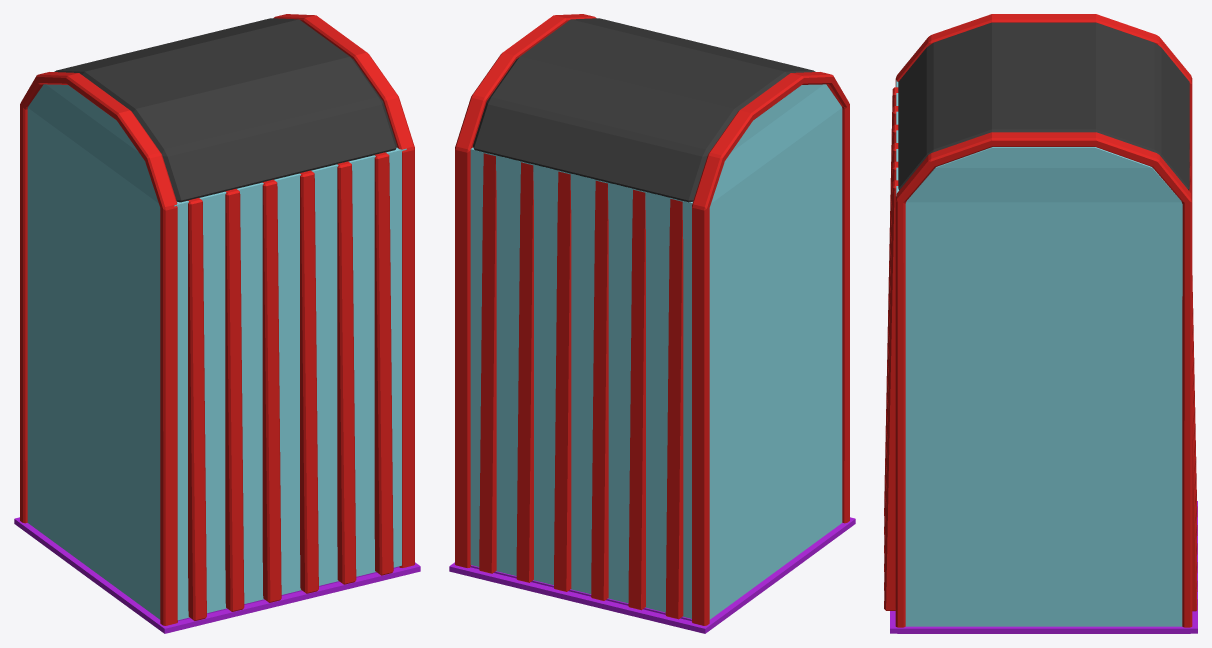
Rendered from shower.fbx.
3 views of the same model, side by side, from view 1: azimuth 30°, elevation 25°; view 2: azimuth 150°, elevation 25°; view 3: azimuth 270°, elevation 25° (orthographic). The views are drawn at different scales.
Visible parts, largest first — view 1: Cube.004, Cube.006, Cube.008, Cube.002, Cube.001, Cube; view 2: Cube.004, Cube.005, Cube.007, Cube.002, Cube.001, Cube; view 3: Cube.003, Cube.002, Cube.001, Cube.008, Cube, Cube.007.
Boxes of the visible parts, x1,y1,x2,y2 form: Cube.004: (27,84,160,619); Cube.006: (174,147,406,620); Cube.008: (188,152,393,620); Cube.002: (54,18,396,202); Cube.001: (20,14,414,625); Cube: (14,517,420,633); Cube.004: (709,84,842,619); Cube.005: (470,147,692,618); Cube.007: (479,153,683,619); Cube.002: (473,18,815,202); Cube.001: (455,14,849,625); Cube: (449,517,855,633); Cube.003: (905,147,1182,626); Cube.002: (898,22,1189,190); Cube.001: (895,14,1192,627); Cube.008: (884,87,898,610); Cube: (890,501,1197,633); Cube.007: (1189,143,1197,611).
Size of the model in its own units: 314 by 567 by 326.
